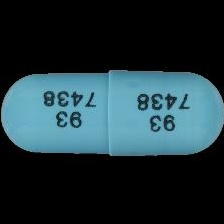61919-179: (0, 0, 224, 224)
